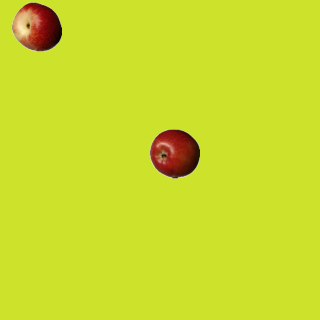Apple Braeburn: (149, 128, 199, 178)
Nectarine: (11, 1, 61, 51)
